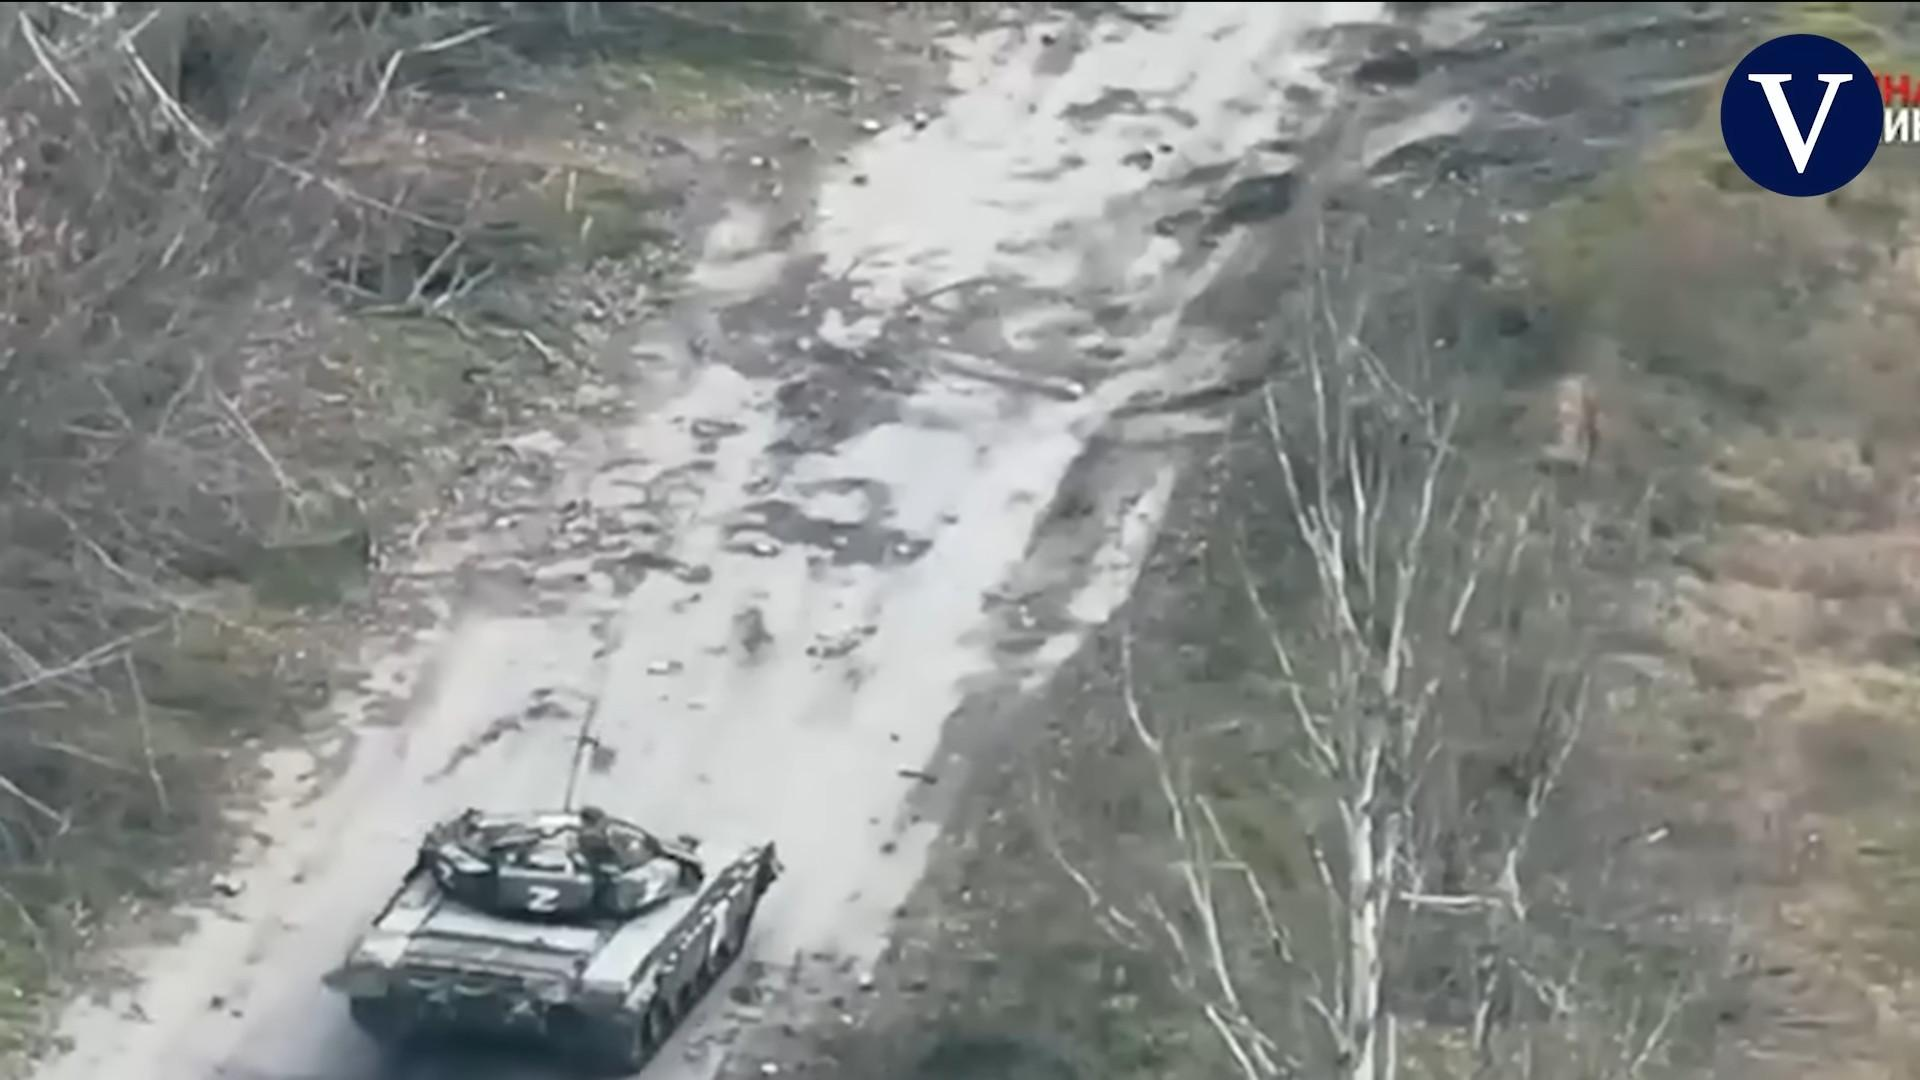tank: (324, 651, 786, 1077)
